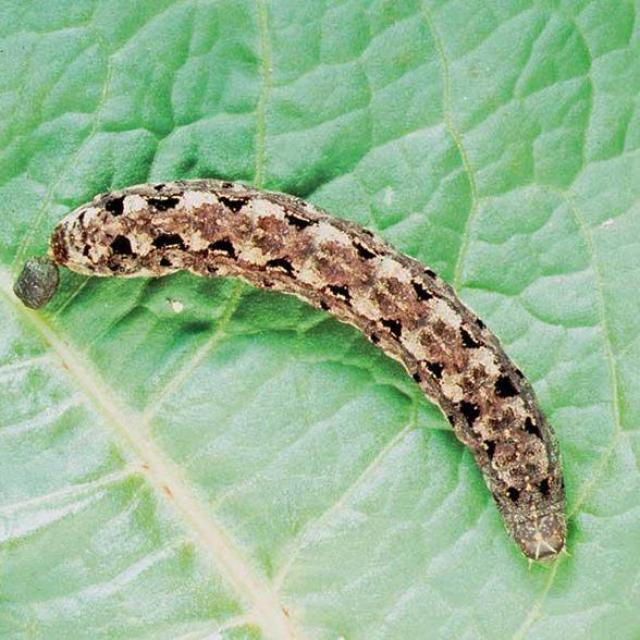armyworm: (48, 173, 584, 587)
